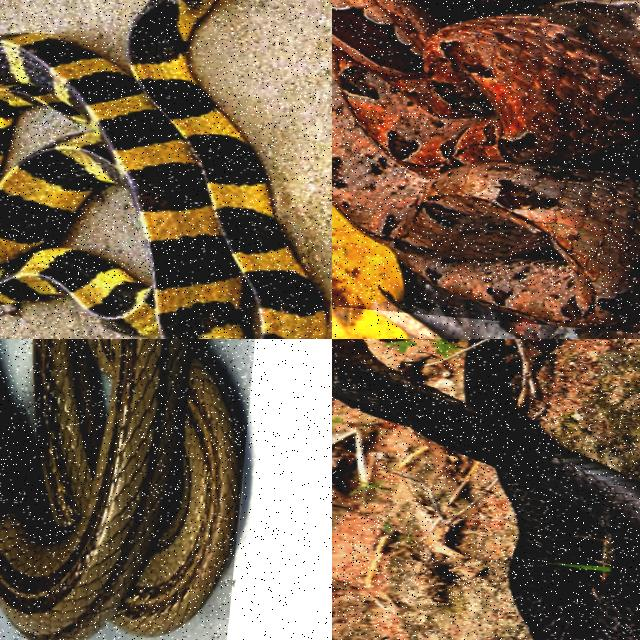Bungarus fasciatus: (0, 0, 327, 338)
Calliophis intestinalis: (0, 339, 241, 639)
Calloselasma rhodostoma: (332, 0, 639, 327)
Naja siamensis: (332, 339, 639, 639)
